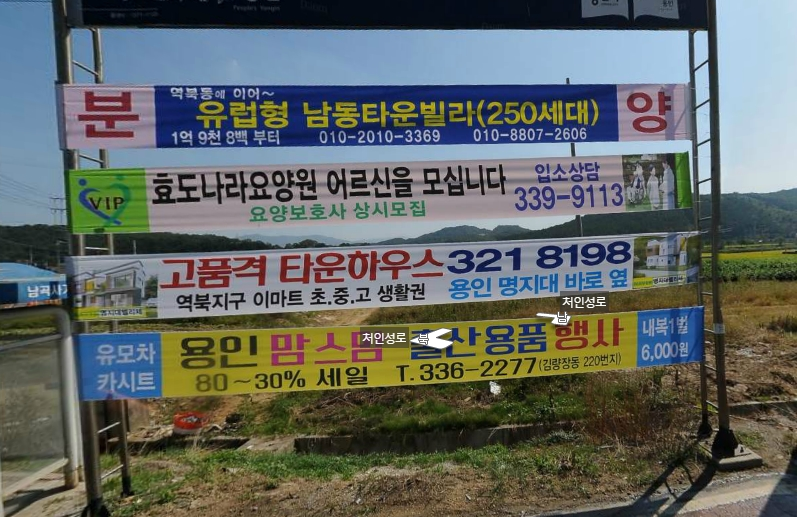banner: (61, 290, 727, 403), (64, 232, 712, 323), (49, 63, 699, 143), (40, 154, 698, 227)
